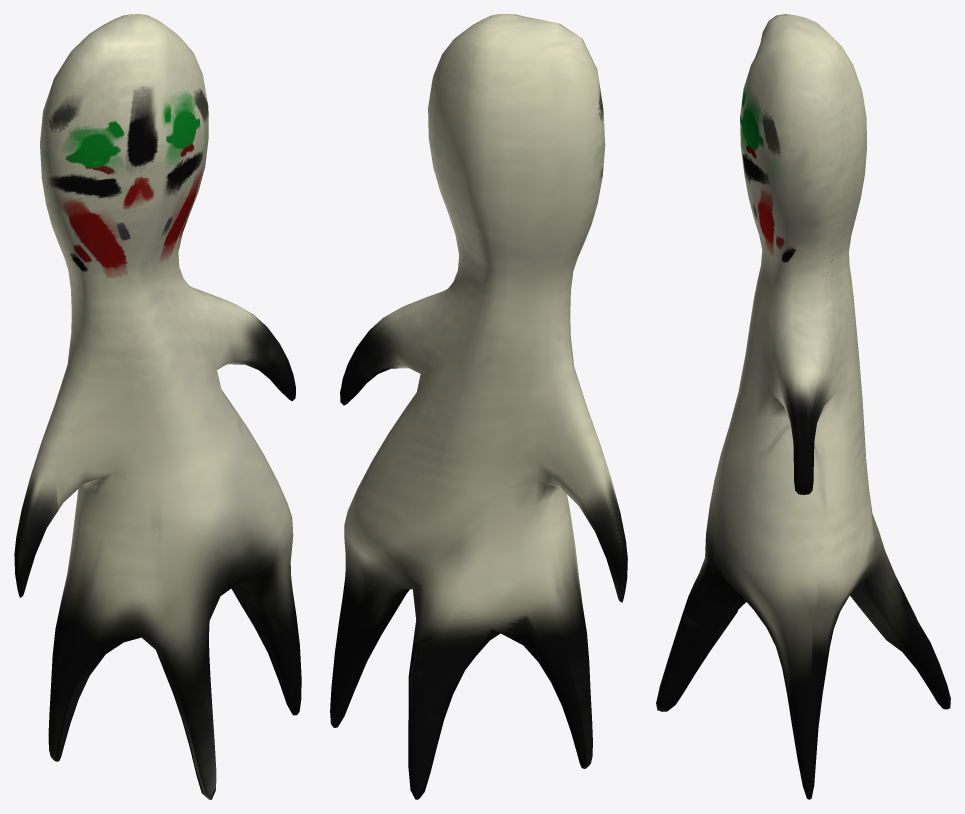
The model's file is SCP-173.fbx.
The picture shows the model from 3 angles, left to right: view 1: azimuth 30°, elevation 25°; view 2: azimuth 150°, elevation 25°; view 3: azimuth 270°, elevation 25°; orthographic projection. The views are drawn at different scales.
Parts seen in each view (by area): view 1: Cube; view 2: Cube; view 3: Cube.
Boxes of the visible parts, x1,y1,x2,y2 form: Cube: (14,14,301,799); Cube: (330,14,627,799); Cube: (656,14,950,799).
Bounding box in the file's own units: 148 × 362 × 140.
Materials: 1 (1 with a texture image).
